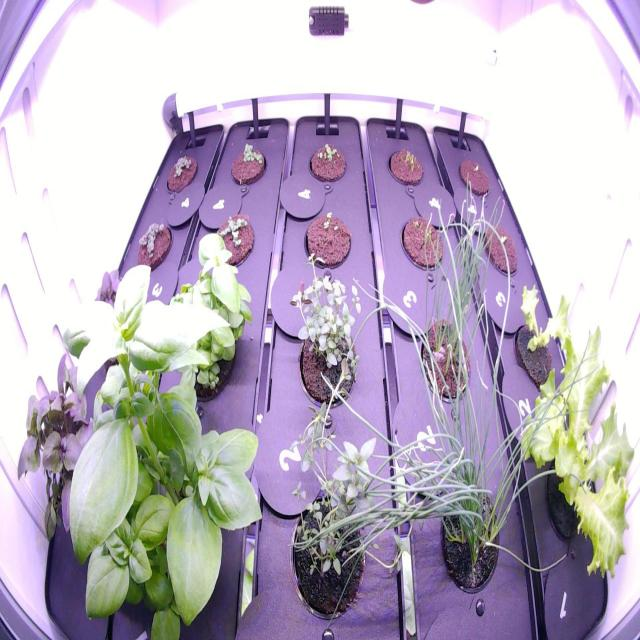germination: (393, 202, 454, 282), (297, 198, 357, 274), (205, 204, 260, 270), (477, 212, 525, 281), (132, 215, 178, 282), (302, 134, 354, 192), (380, 138, 432, 196), (226, 134, 270, 194), (162, 148, 202, 204), (456, 153, 493, 200)
young: (512, 280, 582, 401)
